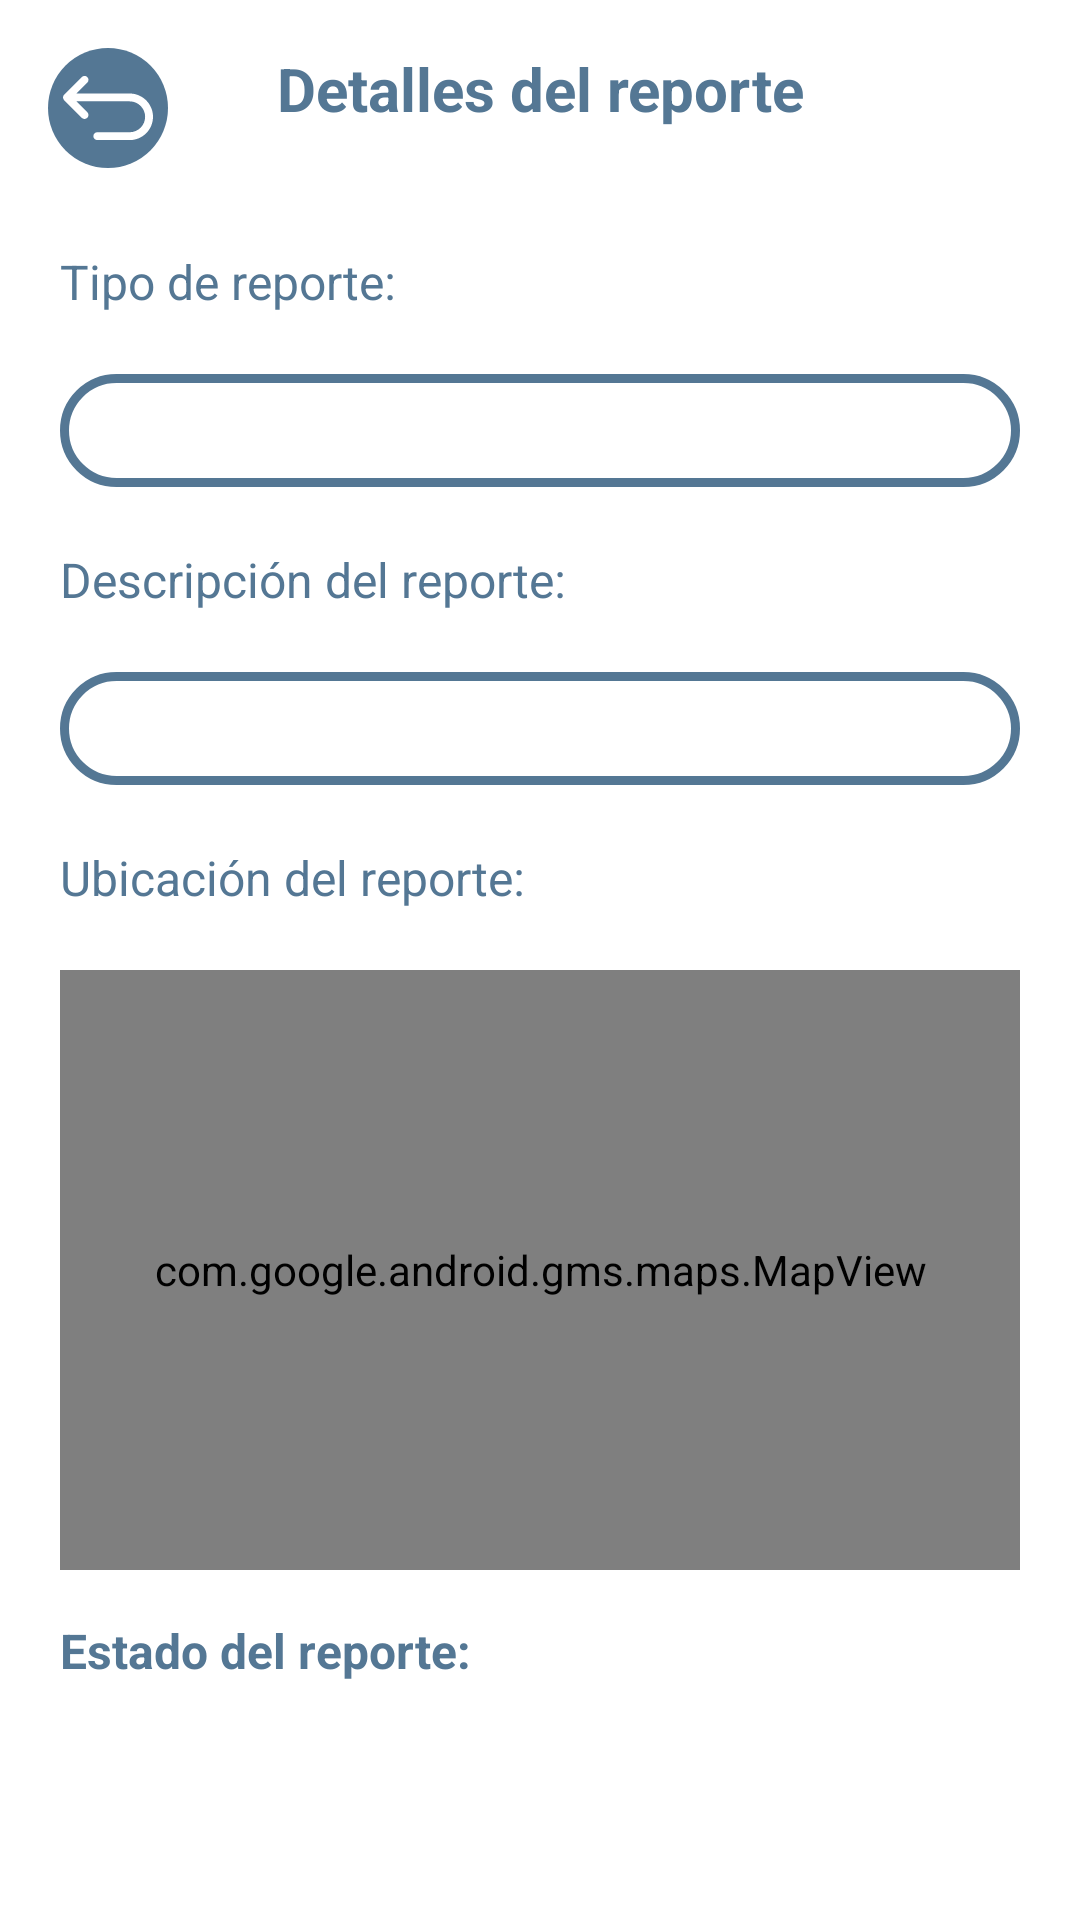

Point at icon controls on the screen. Image size 1080px x 1920px, points as [x,y].
Regresar: [108,108]
